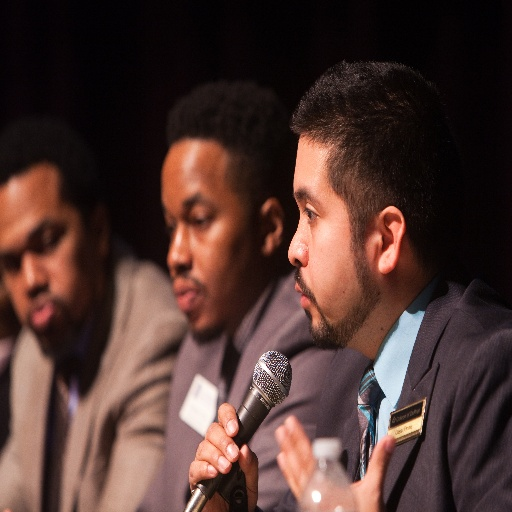hand: (273, 412, 396, 511), (184, 414, 256, 495)
